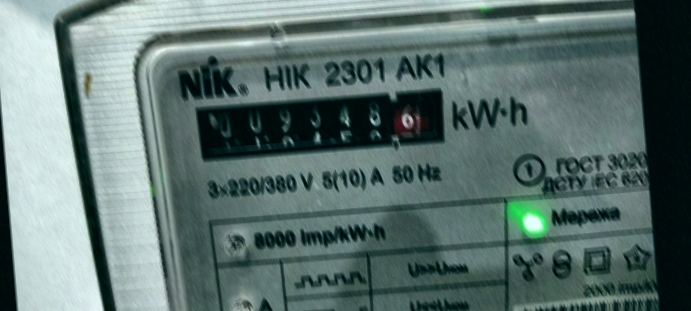0: (217, 112, 235, 139), (247, 106, 264, 133)
3: (308, 102, 324, 128)
4: (335, 98, 355, 129)
6: (399, 101, 418, 131)
8: (367, 98, 384, 127)
9: (279, 107, 295, 135)
screen: (178, 73, 462, 174)
